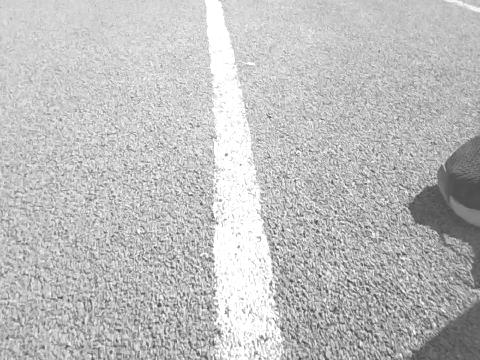Lines: (205, 0, 287, 360)
